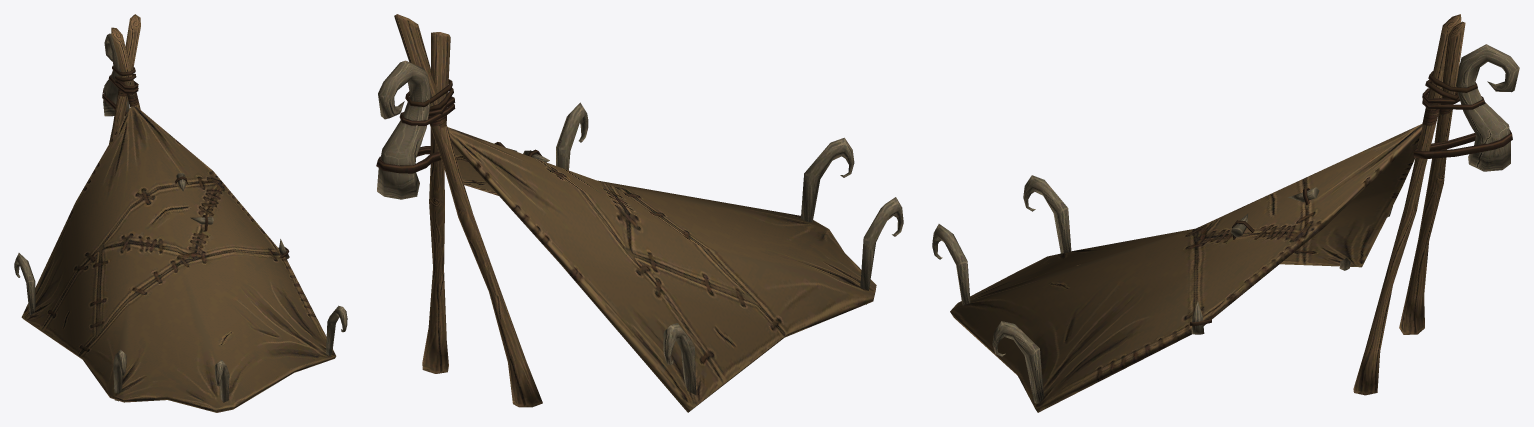
File: tent3.fbx
3 renders of one model, left to right at view 1: azimuth 30°, elevation 25°; view 2: azimuth 150°, elevation 25°; view 3: azimuth 270°, elevation 25°, orthographic. The views are drawn at different scales.
Visible parts, largest first — view 1: node_id9, node_id6; view 2: node_id9, node_id6; view 3: node_id9, node_id6.
Boxes of the visible parts, x1=… form: node_id9: x1=21, y1=14, x2=336, y2=412; node_id6: x1=14, y1=33, x2=347, y2=402; node_id9: x1=376, y1=14, x2=876, y2=412; node_id6: x1=377, y1=60, x2=903, y2=394; node_id9: x1=950, y1=14, x2=1512, y2=412; node_id6: x1=932, y1=44, x2=1519, y2=403.
Size of the model in its own units: 0.4845 by 0.512 by 0.753.
Materials: 2 (2 with a texture image).
